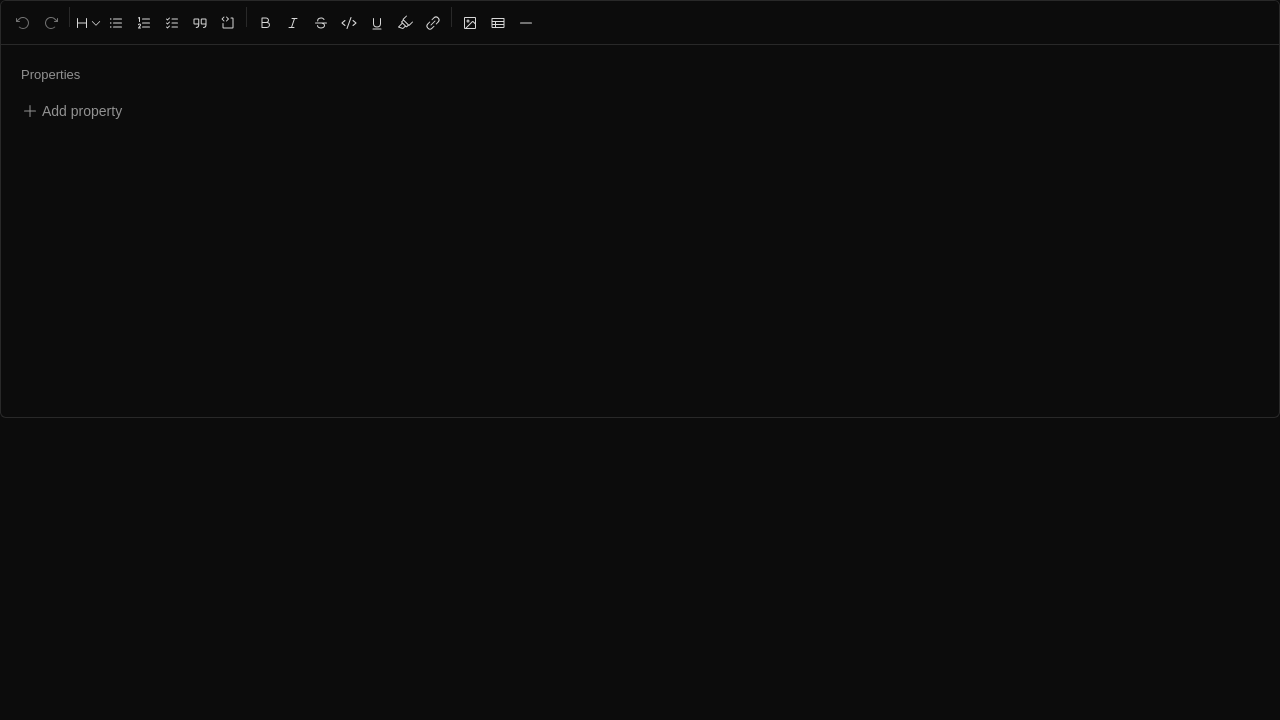
it: KnowledgeBaseRichEditor › opens an in-editor form for adding links
expect the field named "Rich Markdown editor" is shown: met, box [260,142,1020,417]
Click the button named "Link" at (433, 22), box [419,8,447,36]
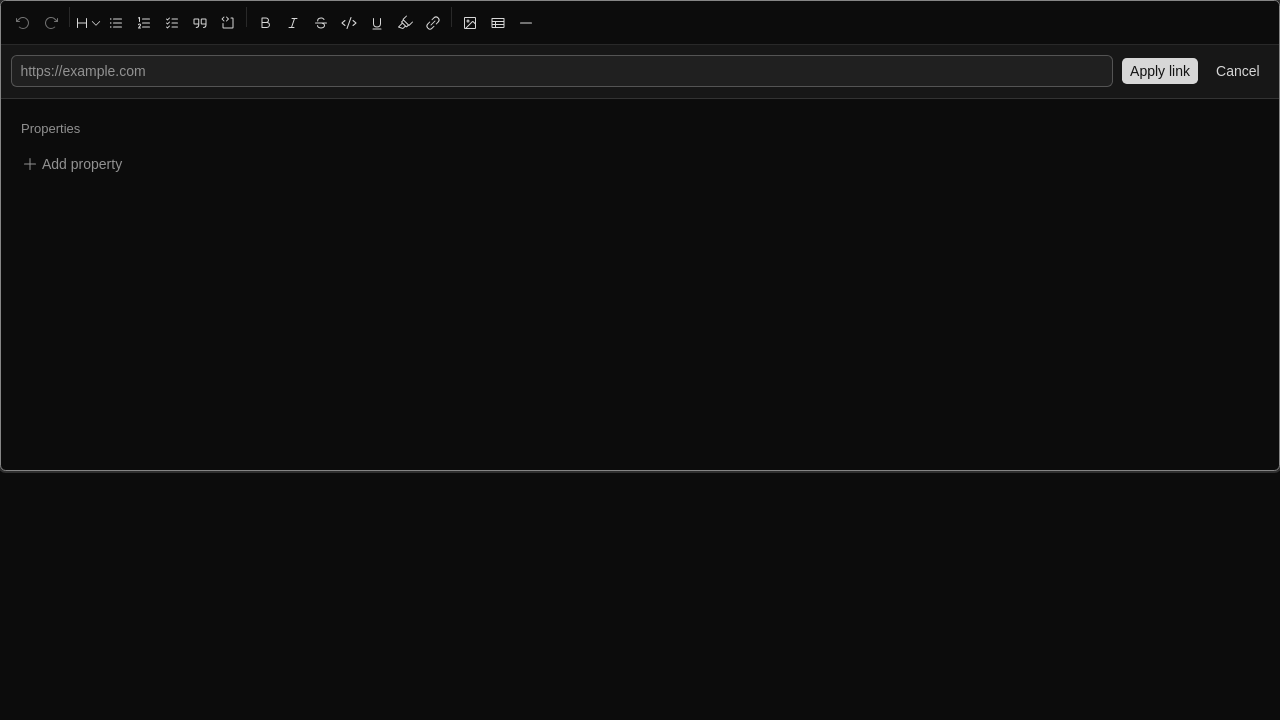
expect the dialog named "Edit link" is shown: met, box [1,45,1279,99]
expect the field named "Link URL" is shown: met, box [11,55,1113,87]
expect the button "Apply link" is shown: met, box [1121,57,1199,85]
